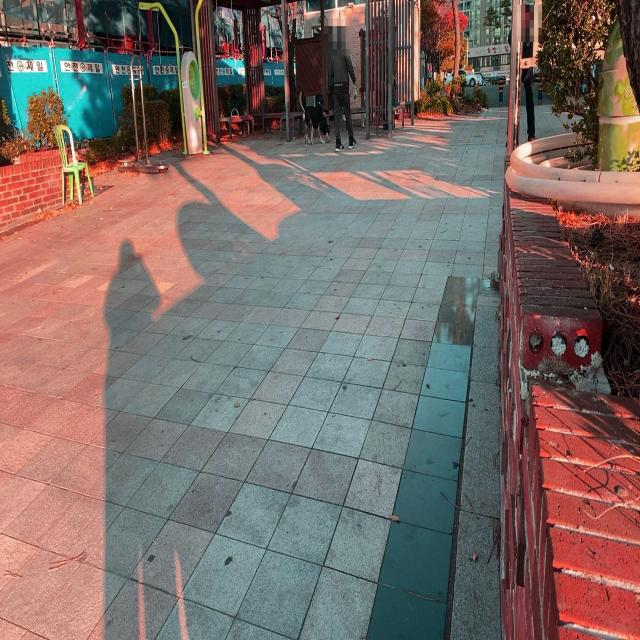Leashed_Dog: (298, 90, 341, 150)
